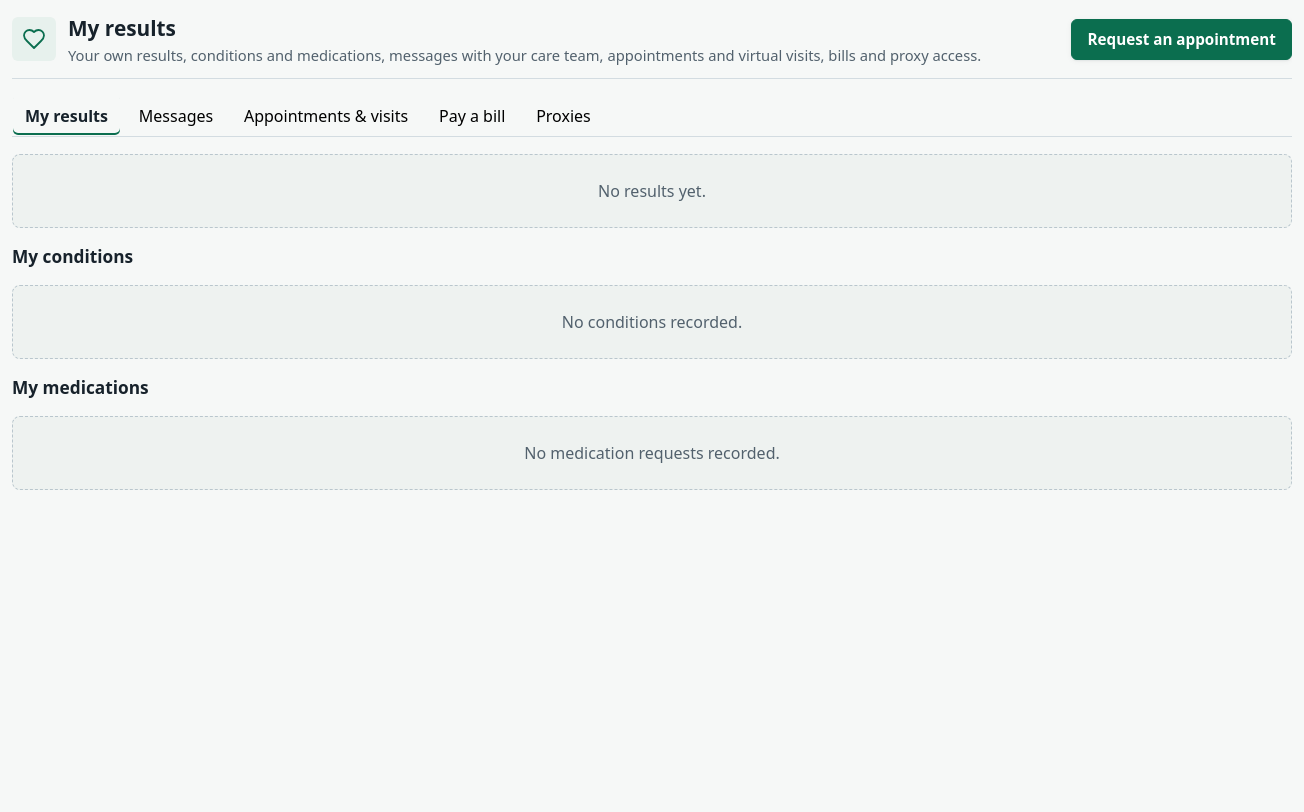
Test: PortalPage (Phase 9 sections) › self-scheduling request reports the staff-confirm default honestly
Step 1. Click the tab "Appointments & visits" → (326, 116), box [231, 95, 421, 136]
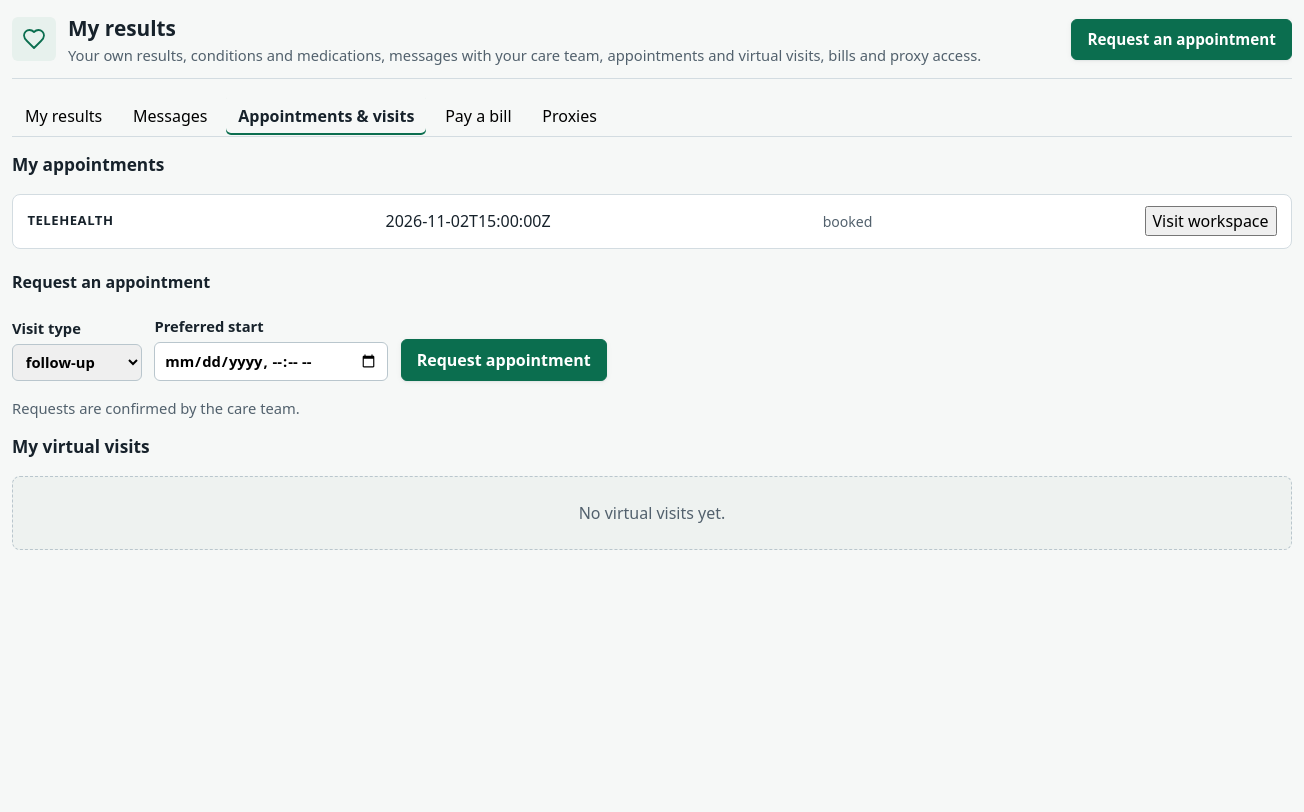
Expected: the text "Requests are confirmed by the care team." is shown, [12, 398, 300, 418]
Step 2. Type "2026-11-05T09:00" into the field labelled "Preferred start" → (271, 361), box [154, 342, 388, 381]
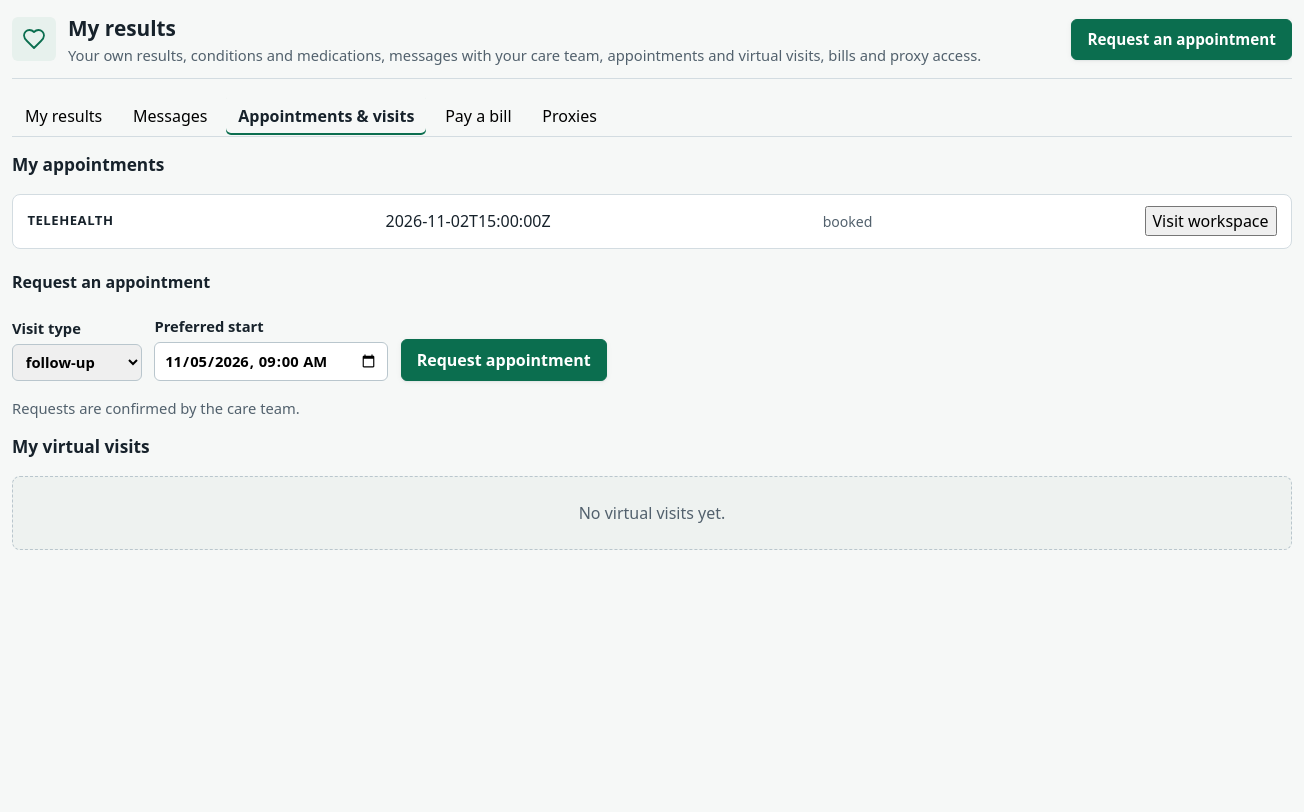
Step 3. Click the button "Request appointment" → (504, 360), box [400, 339, 607, 381]
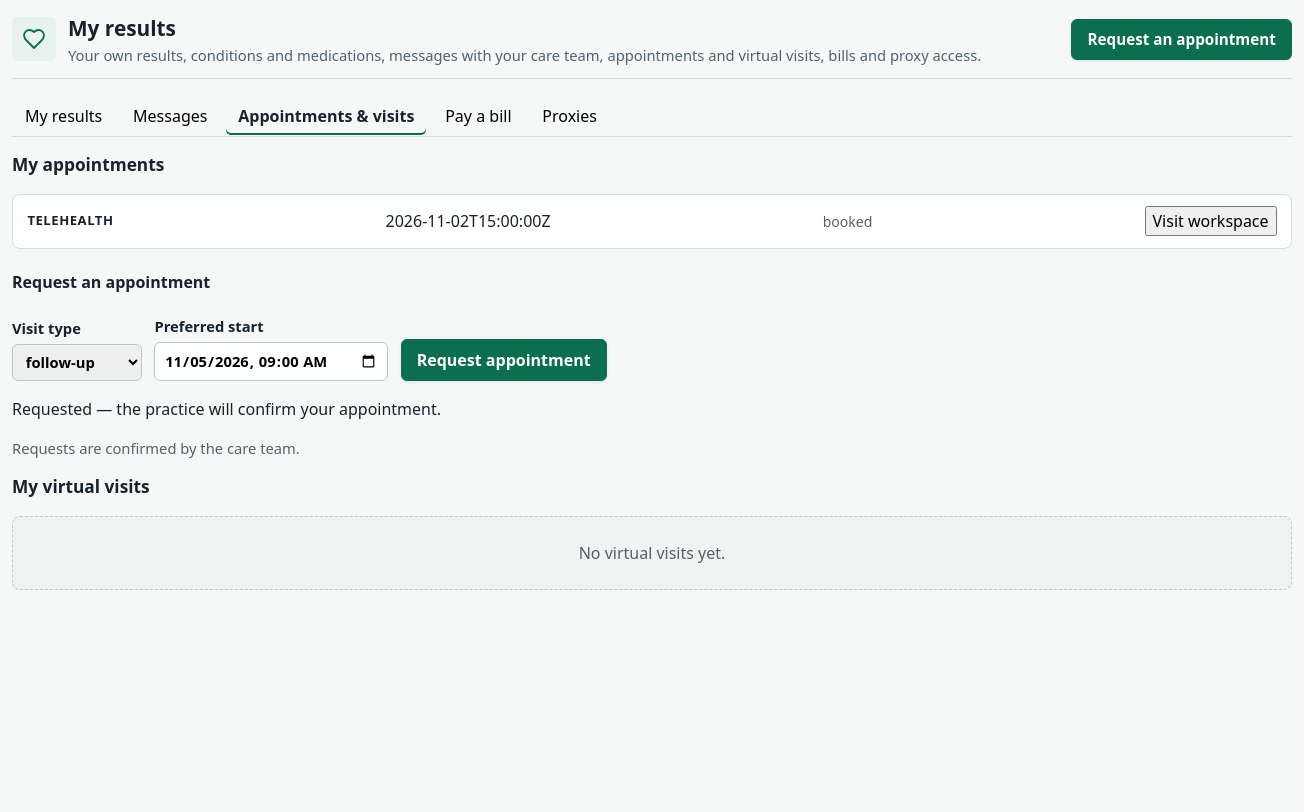
Expected: the text "Requested — the practice will confirm your appointment." is shown, [12, 398, 441, 420]
